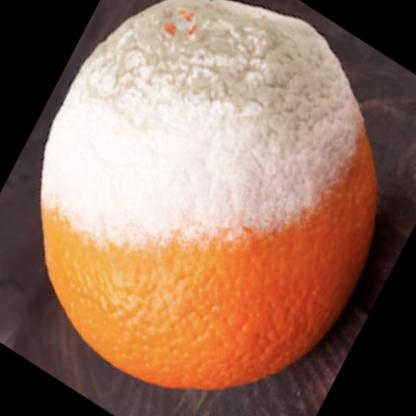rotten: (43, 1, 380, 390)
